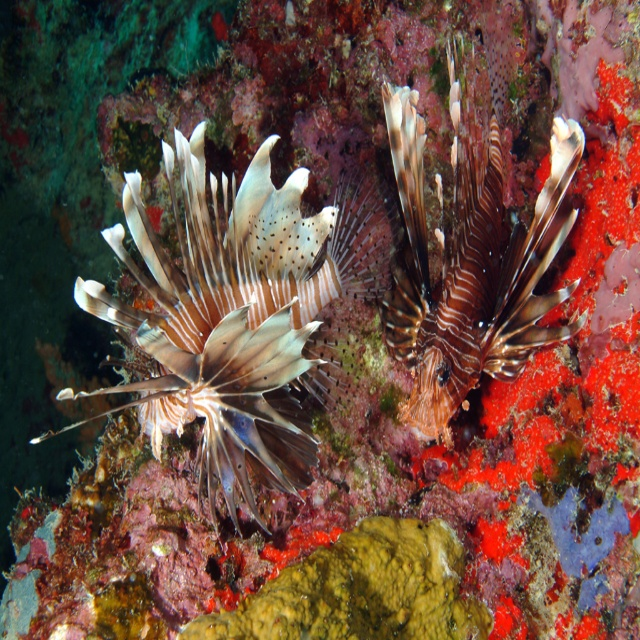Fish: (29, 121, 402, 553), (375, 0, 593, 452)
